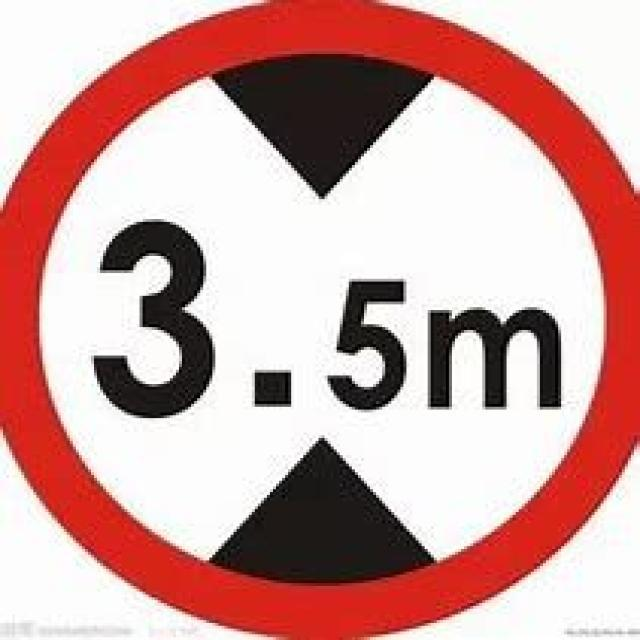height limit: (18, 16, 622, 616)
